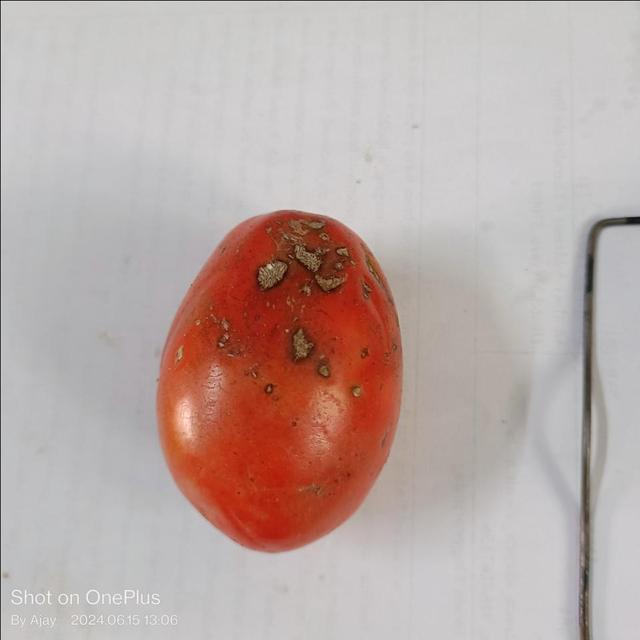Bacterial Spot Fruit: (146, 142, 244, 266)
